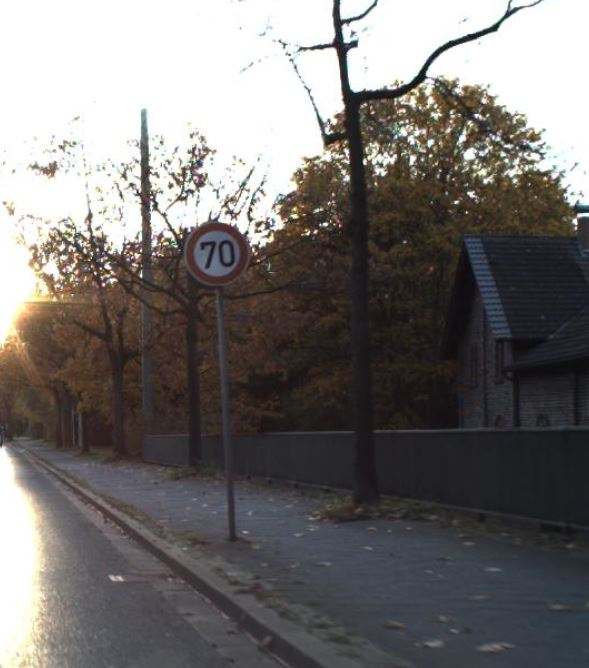70 Km Hiz Siniri: (184, 218, 249, 285)
